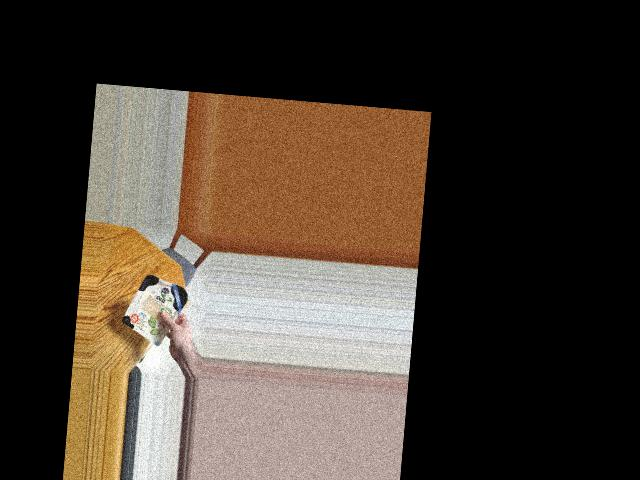cheese: (124, 272, 193, 341)
